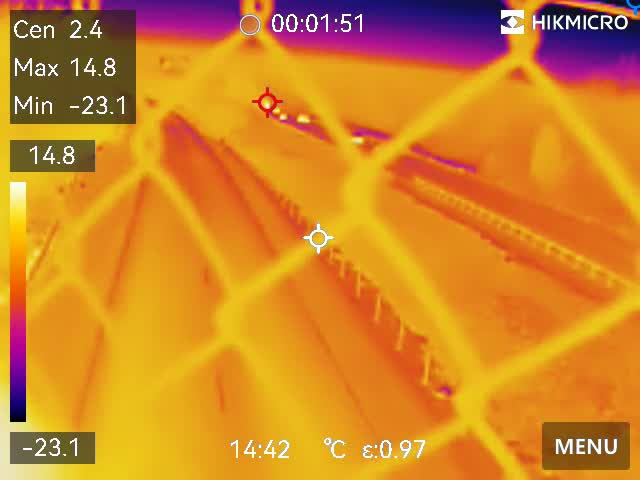vehicle: (342, 131, 365, 142), (293, 114, 313, 123), (265, 106, 285, 114), (277, 113, 289, 121)
